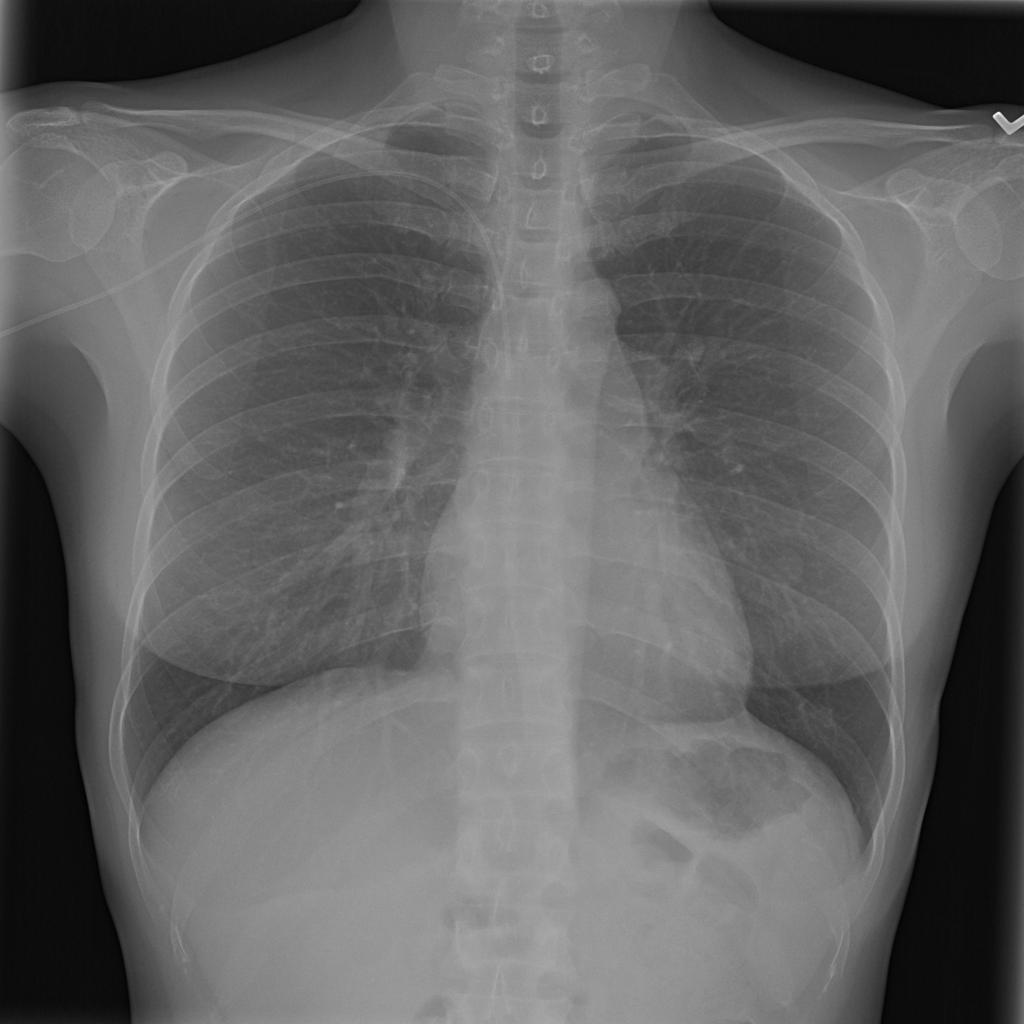nodule: (760, 544, 814, 596)
